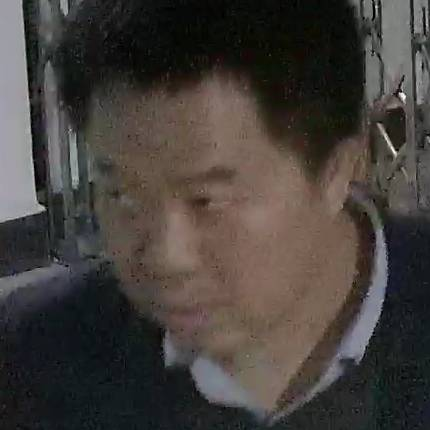cb: (40, 4, 393, 363)
